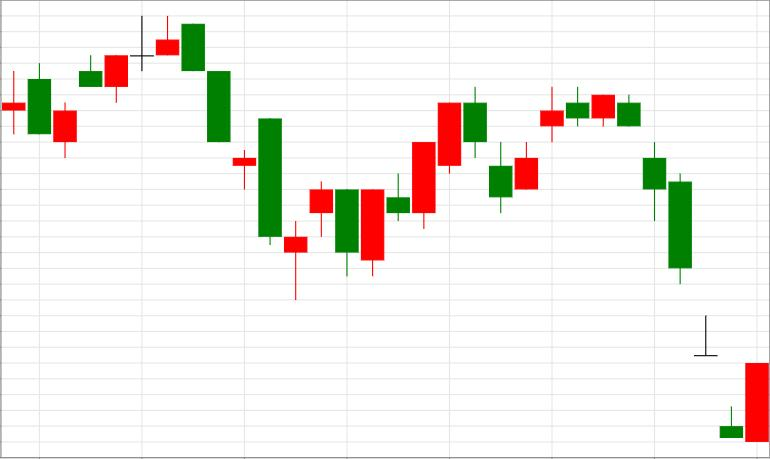bullish_engulfing_rise: (618, 94, 769, 442)
morning_star_rise: (181, 24, 333, 301)
